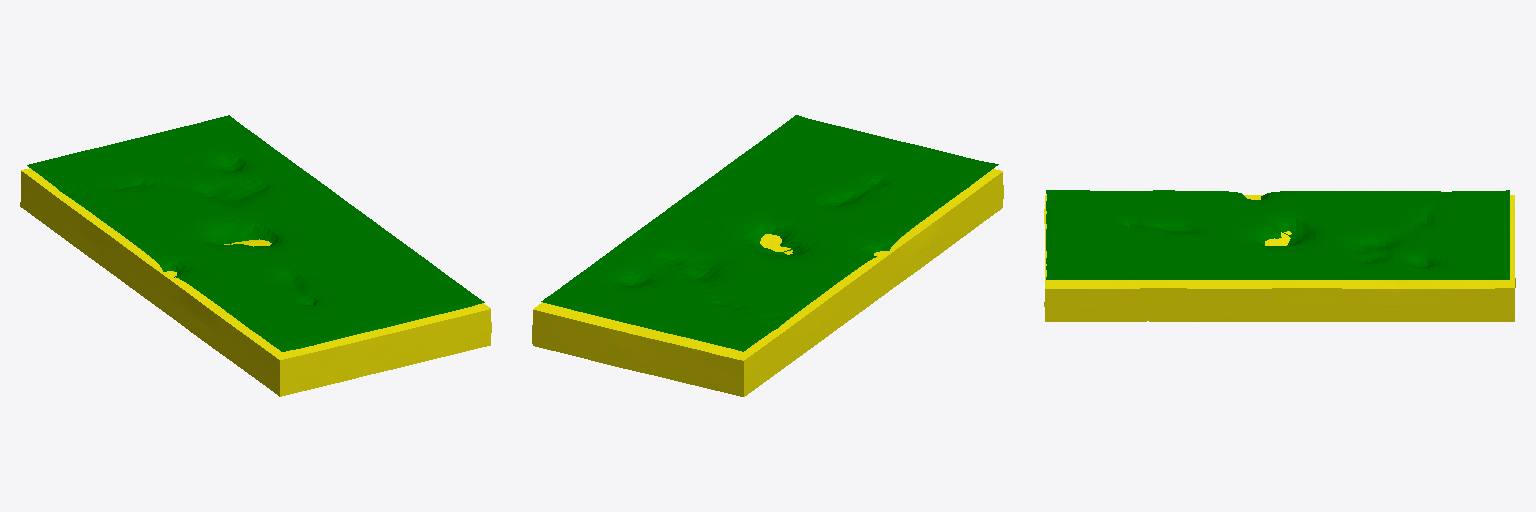
The robot description file, URDF, robot "bed":
<?xml version="1.0" ?>
<robot name="bed">

  <material name="off_yellow">
    <color rgba="1 0.95 0.051 1"/>
  </material>

  <material name="green">
    <color rgba="0.0 0.5 0.0 1"/>
  </material>

  <material name="brown">
    <color rgba="0.84 0.4 0.12 1"/>
  </material>

  <link name="mattress">
    <inertial>
      <mass value="0"/>
      <origin rpy="0 0 0" xyz="0 0 0"/>
      <inertia ixx="0.01" ixy="0.0" ixz="0.0" iyy="0.01" iyz="0.0" izz="0.01"/>
    </inertial>
    <visual>
      <origin rpy="0 0 0" xyz="0 0 0"/>
      <geometry>
        <mesh filename="bed_mattress.obj" scale="1.0 1.0 1.0"/>
      </geometry>
      <material name="off_yellow"/>
    </visual>
    <collision>
      <origin rpy="0 0 0" xyz="0 0 0"/>
      <geometry>
        <!--mesh filename="bed_mattress_vhacd.obj" scale="1.1 1.1 1.1"/-->
        <mesh filename="bed_mattress.obj" scale="1.0 1.0 1.0"/>
      </geometry>
    </collision>
  </link>
  <joint name="mattress_pmat_link" type="fixed">
    <parent link="mattress"/>
    <child link="pmat"/>
    <axis xyz="0 0 1"/>
    <origin rpy="0 0 0" xyz="0 0 0"/>
    <limit effort="2000" lower="0" upper="2" velocity="1"/>
  </joint>
  <link name="pmat">
    <inertial>
      <mass value="0"/>
      <origin rpy="0 0 0" xyz="0 0 0"/>
      <inertia ixx="0.01" ixy="0.0" ixz="0.0" iyy="0.01" iyz="0.0" izz="0.01"/>
    </inertial>
    <visual>
      <origin rpy="0 0 0" xyz="0 0 0"/>
      <geometry>
        <mesh filename="bed_pmat.obj" scale="1.0 1.0 1.0"/>
      </geometry>
      <material name="green"/>
    </visual>
    <collision>
      <origin rpy="0 0 0" xyz="0 0 0"/>
      <geometry>
        <!--mesh filename="bed_mattress_vhacd.obj" scale="1.1 1.1 1.1"/-->
        <mesh filename="bed_pmat.obj" scale="1.0 1.0 1.0"/>
      </geometry>
    </collision>
  </link>
  <joint name="mattress_leg1_link" type="fixed">
    <parent link="mattress"/>
    <child link="leg1"/>
    <axis xyz="0 0 1"/>
    <origin rpy="0 0 0" xyz="0.031 0.036 -0.15"/>
    <limit effort="2000" lower="0" upper="2" velocity="1"/>
  </joint>
  <link name="leg1">
    <inertial>
      <mass value="0"/>
      <origin rpy="0 0 0" xyz="0 0 0"/>
      <inertia ixx="0.01" ixy="0.0" ixz="0.0" iyy="0.01" iyz="0.0" izz="0.01"/>
    </inertial>
    <visual>
      <origin rpy="0 0 0" xyz="0 0 0"/>
      <geometry>
        <mesh filename="cube.obj" scale="0.03 0.03 0.2"/>
      </geometry>
      <material name="brown"/>
    </visual>
  </link>
  <joint name="mattress_leg2_link" type="fixed">
    <parent link="mattress"/>
    <child link="leg2"/>
    <axis xyz="0 0 1"/>
    <origin rpy="0 0 0" xyz="0.031 1.7272 -0.15"/>
    <limit effort="2000" lower="0" upper="2" velocity="1"/>
  </joint>
  <link name="leg2">
    <inertial>
      <mass value="0"/>
      <origin rpy="0 0 0" xyz="0 0 0"/>
      <inertia ixx="0.01" ixy="0.0" ixz="0.0" iyy="0.01" iyz="0.0" izz="0.01"/>
    </inertial>
    <visual>
      <origin rpy="0 0 0" xyz="0 0 0"/>
      <geometry>
        <mesh filename="cube.obj" scale="0.03 0.03 0.2"/>
      </geometry>
      <material name="brown"/>
    </visual>
  </link>
  <joint name="mattress_leg3_link" type="fixed">
    <parent link="mattress"/>
    <child link="leg3"/>
    <axis xyz="0 0 1"/>
    <origin rpy="0 0 0" xyz="0.8382 0.036 -0.15"/>
    <limit effort="2000" lower="0" upper="2" velocity="1"/>
  </joint>
  <link name="leg3">
    <inertial>
      <mass value="0"/>
      <origin rpy="0 0 0" xyz="0 0 0"/>
      <inertia ixx="0.01" ixy="0.0" ixz="0.0" iyy="0.01" iyz="0.0" izz="0.01"/>
    </inertial>
    <visual>
      <origin rpy="0 0 0" xyz="0 0 0"/>
      <geometry>
        <mesh filename="cube.obj" scale="0.03 0.03 0.2"/>
      </geometry>
      <material name="brown"/>
    </visual>
  </link>
  <joint name="mattress_leg4_link" type="fixed">
    <parent link="mattress"/>
    <child link="leg4"/>
    <axis xyz="0 0 1"/>
    <origin rpy="0 0 0" xyz="0.8382 1.7272 -0.15"/>
    <limit effort="2000" lower="0" upper="2" velocity="1"/>
  </joint>
  <link name="leg4">
    <inertial>
      <mass value="0"/>
      <origin rpy="0 0 0" xyz="0 0 0"/>
      <inertia ixx="0.01" ixy="0.0" ixz="0.0" iyy="0.01" iyz="0.0" izz="0.01"/>
    </inertial>
    <visual>
      <origin rpy="0 0 0" xyz="0 0 0"/>
      <geometry>
        <mesh filename="cube.obj" scale="0.03 0.03 0.2"/>
      </geometry>
      <material name="brown"/>
    </visual>
  </link>
</robot>

--- Render facts (derived) ---
Views: 3 orthographic renders of the robot side by side, from view 1: azimuth 30°, elevation 25°; view 2: azimuth 150°, elevation 25°; view 3: azimuth 270°, elevation 25°.
Robot: bed — 6 links, 5 joints (5 fixed); root link mattress; default pose: every joint at zero.
Links seen in each view (by area): view 1: pmat, mattress; view 2: pmat, mattress; view 3: pmat, mattress.
Link boxes in pixels (x1=…): pmat: x1=27, y1=115, x2=484, y2=351; mattress: x1=20, y1=168, x2=491, y2=396; pmat: x1=541, y1=115, x2=998, y2=351; mattress: x1=532, y1=169, x2=1003, y2=396; pmat: x1=1046, y1=190, x2=1509, y2=279; mattress: x1=1044, y1=195, x2=1515, y2=321.
Bounding box of the posed robot: 0.9288 × 1.97 × 0.1892 m (x, y, z).
2 mesh visuals loaded from 3 distinct referenced files (2 OBJ); not drawn: 4 (reference not matched to a file when rendering).